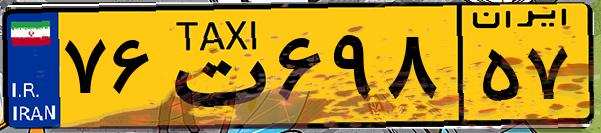5: (475, 38, 525, 113)
6: (270, 28, 330, 110), (110, 28, 158, 98)
7: (57, 26, 110, 100), (525, 38, 570, 115)
8: (385, 28, 445, 110)
9: (330, 28, 385, 110)
ت: (158, 12, 270, 120)
